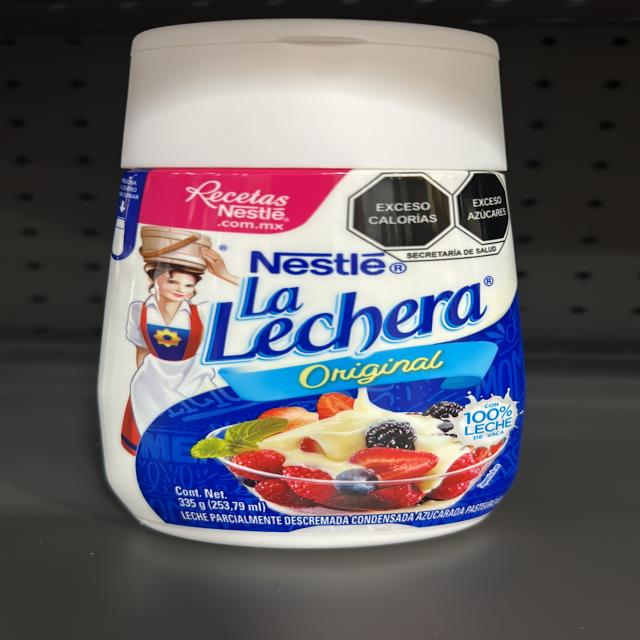nestleLechera: (108, 14, 508, 539)
